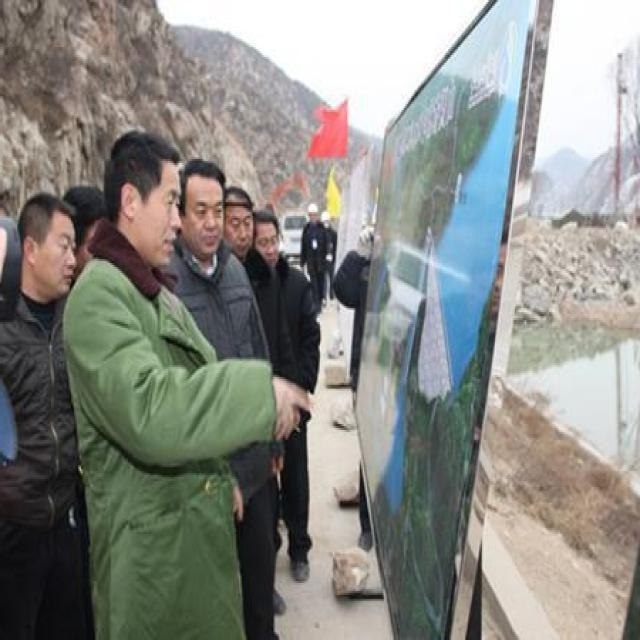Sin_Casco_Mascarrilla: (101, 125, 181, 271), (19, 193, 75, 305), (58, 178, 110, 275), (178, 160, 226, 257), (225, 182, 255, 256), (248, 206, 280, 263)
